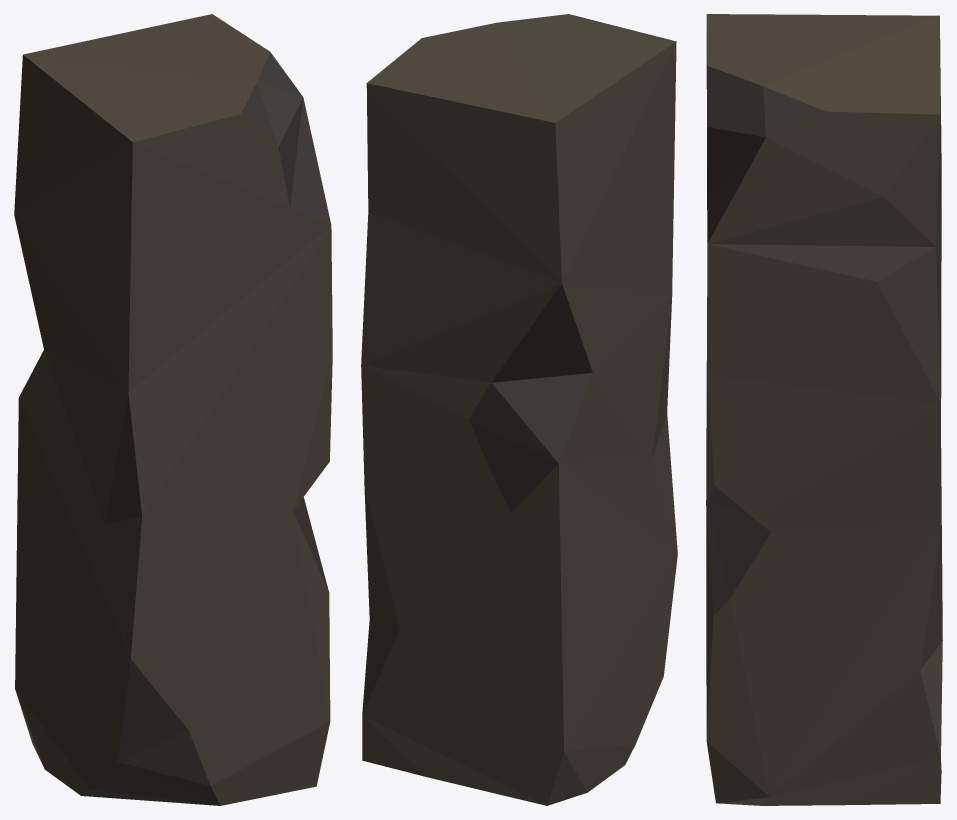
File: Pillar_3B.fbx
3 views of the same model, side by side, from view 1: azimuth 30°, elevation 25°; view 2: azimuth 150°, elevation 25°; view 3: azimuth 270°, elevation 25° (orthographic).
Parts seen in each view (by area): view 1: Group65523; view 2: Group65523; view 3: Group65523.
Part boxes in pixels (left/top/right/bottom): Group65523: left=14, top=14, right=332, bottom=805; Group65523: left=361, top=14, right=677, bottom=805; Group65523: left=706, top=14, right=942, bottom=805.
Bounding box in the file's own units: 1.29 × 4.15 × 1.27.
